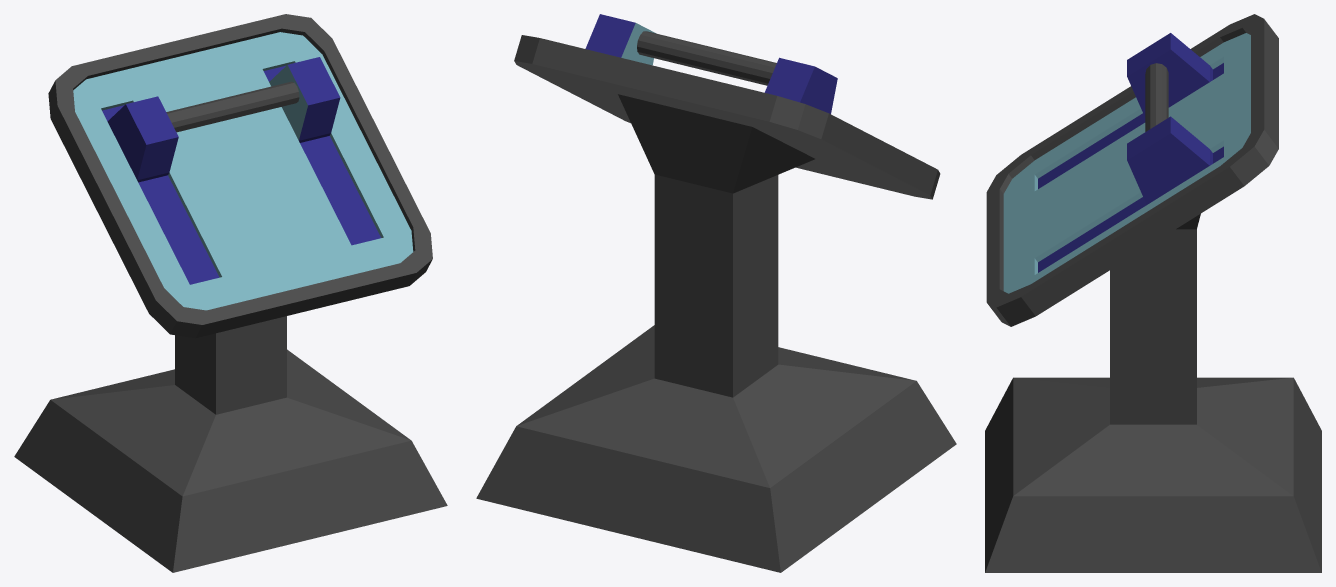
The model's file is Lever.glb.
3 renders of one model, left to right at view 1: azimuth 30°, elevation 25°; view 2: azimuth 150°, elevation 25°; view 3: azimuth 270°, elevation 25°, orthographic. The views are drawn at different scales.
Visible parts, largest first — view 1: Button; view 2: Button; view 3: Button.
Part boxes in pixels (x1,y1,x2,y2): Button: [14, 14, 447, 572]; Button: [476, 14, 956, 572]; Button: [985, 14, 1321, 572].
Bounding box in the file's own units: 0.9225 × 1.29 × 0.9225.
